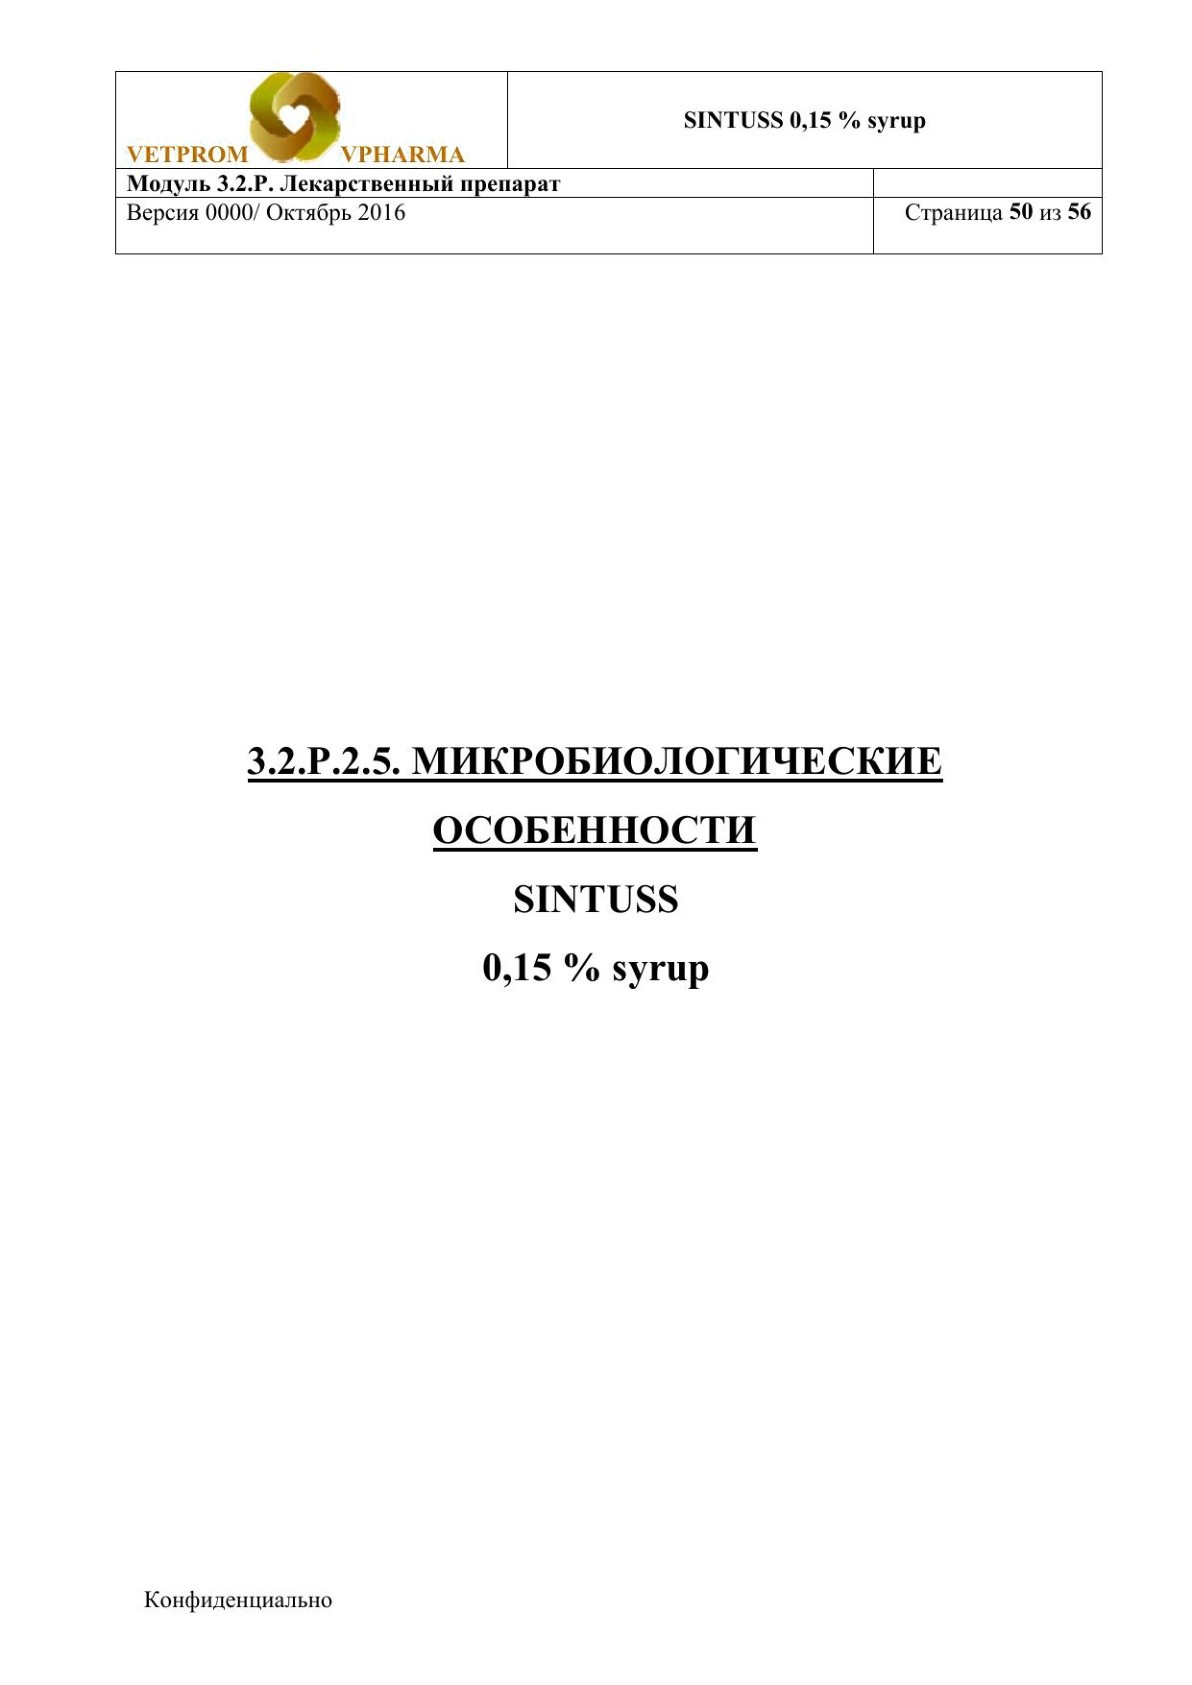merged_cells: (115, 71, 1104, 255)
